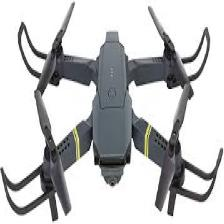drone: (0, 11, 224, 210)
